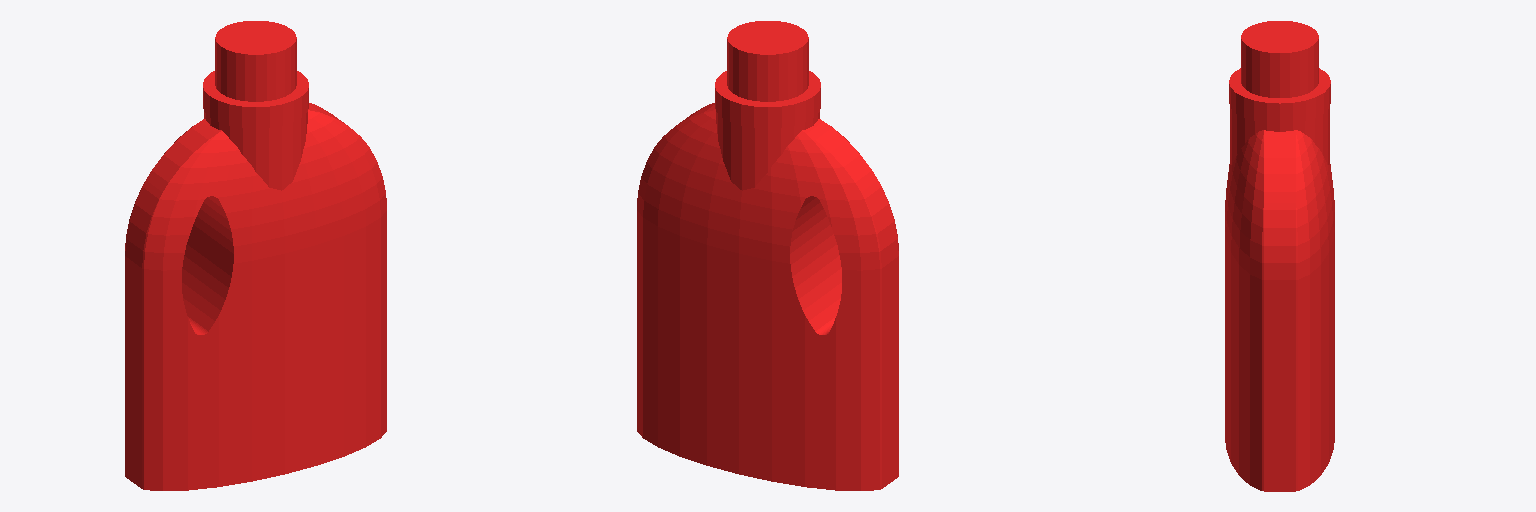
robot.urdf — bottle:
<?xml version="0.0" ?>
<robot name="bottle">
    <link concave="yes" name="base_link">
        <!-- <contact>
            <lateral_friction value="3.0"/>
            <rolling_friction value="3.0"/>
            <spinning_friction value="3.0"/>
        </contact> -->
        <inertial>
            <origin xyz="0 0 0.03"/>
            <mass value="1"/>
            <inertia ixx="1" ixy="0" ixz="0" iyy="1" iyz="0" izz="1"/>
        </inertial>
        <visual>
            <origin xyz="0.0 -0.0  0"/>
            <geometry>
                <mesh filename="bottle.obj" scale="0.011 0.011 0.011 "/>
            </geometry>
      <material name="bottle">
        <color rgba="1.0 0.2 0.2 1"/>
        <specular rgb="1 1 1"/>
      </material>
        </visual>
        <collision concave="yes">
            <origin xyz="0.0 -0.0 0"/>
            <geometry>
                <mesh filename="bottle.obj" scale="0.011 0.011 0.011 "/>
            </geometry>
        </collision>
    </link>
</robot>

--- Facts derived from the render (not from the file) ---
The picture shows the robot from 3 angles, left to right: view 1: azimuth 30°, elevation 25°; view 2: azimuth 150°, elevation 25°; view 3: azimuth 270°, elevation 25°; orthographic projection.
Robot: bottle — 1 links, 0 joints (none); root link base_link; default pose: every joint at zero.
Visible links, largest first — view 1: base_link; view 2: base_link; view 3: base_link.
Boxes of the visible links, box(x1,y1,x2,y2) form: base_link: box(125, 21, 386, 490); base_link: box(637, 21, 898, 490); base_link: box(1225, 21, 1334, 491).
Bounding box of the posed robot: 0.0778 × 0.032 × 0.1263 m (x, y, z).
Meshes: 1 distinct files referenced, 1 mesh visuals loaded (1 OBJ).